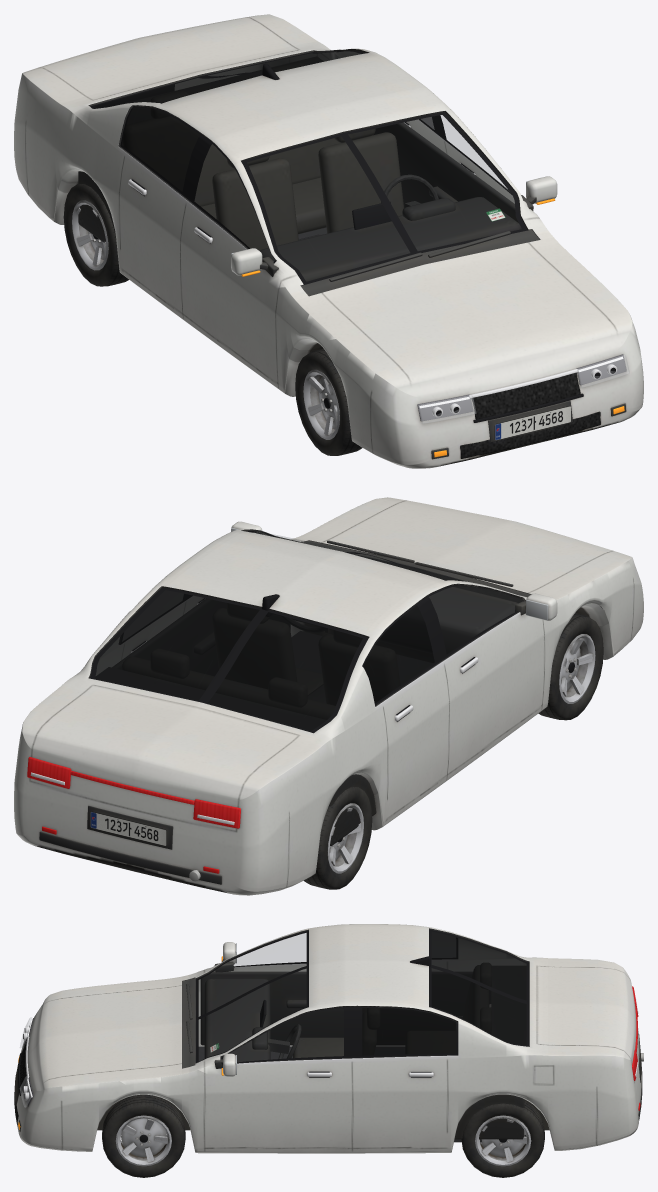
The model's file is CarSedan.fbx.
The picture shows the model from 3 angles, top to bottom: view 1: azimuth 30°, elevation 25°; view 2: azimuth 150°, elevation 25°; view 3: azimuth 270°, elevation 25°; orthographic projection. The views are drawn at different scales.
Parts seen in each view (by area): view 1: CarSedan_Body, CarSedan_Interior, CarSedan_Wheel_FL, CarSedan_Wheel_RL, CarSedan_PlateFront; view 2: CarSedan_Body, CarSedan_Interior, CarSedan_Wheel_FL, CarSedan_Wheel_RL, CarSedan_PlateRear; view 3: CarSedan_Body, CarSedan_Interior, CarSedan_Wheel_FR, CarSedan_Wheel_RR.
Part boxes in pixels (left/top/right/bottom): CarSedan_Body: left=14, top=14, right=643, bottom=468; CarSedan_Interior: left=78, top=56, right=521, bottom=281; CarSedan_Wheel_FL: left=295, top=348, right=362, bottom=455; CarSedan_Wheel_RL: left=63, top=183, right=128, bottom=286; CarSedan_PlateFront: left=494, top=406, right=571, bottom=440; CarSedan_Body: left=14, top=497, right=643, bottom=895; CarSedan_Interior: left=95, top=587, right=517, bottom=845; CarSedan_Wheel_FL: left=538, top=613, right=603, bottom=720; CarSedan_Wheel_RL: left=303, top=787, right=372, bottom=889; CarSedan_PlateRear: left=90, top=811, right=166, bottom=846; CarSedan_Body: left=14, top=924, right=643, bottom=1153; CarSedan_Interior: left=198, top=963, right=526, bottom=1142; CarSedan_Wheel_FR: left=102, top=1094, right=185, bottom=1177; CarSedan_Wheel_RR: left=461, top=1100, right=544, bottom=1177.
Bounding box in the file's own units: 2.18 × 1.45 × 4.77.
